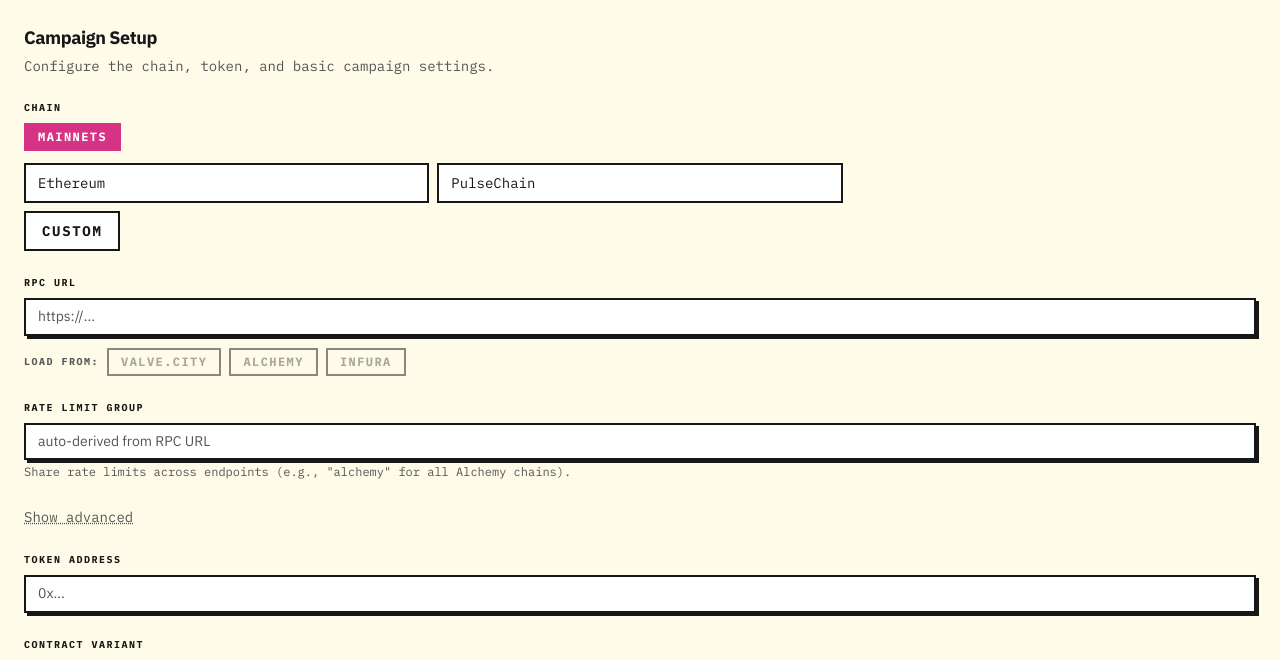
Test: CampaignStep › shows "Probing token..." when token address is valid and loading
Type "0xA0b86991c6218b36c1d19D4a2e9Eb0cE3606eB48" into the field with placeholder "0x..." at coordinates (640, 594), box [24,575,1256,612]
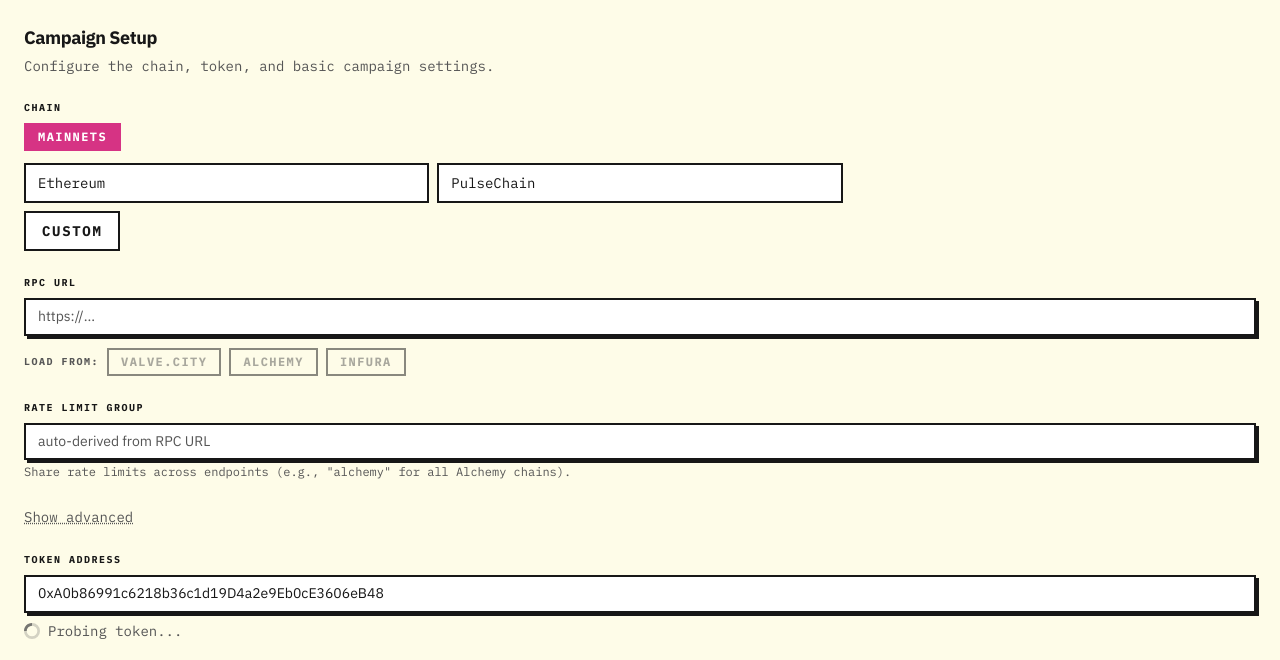
Check: the text "Probing token..." is shown, box [24,622,182,640]
